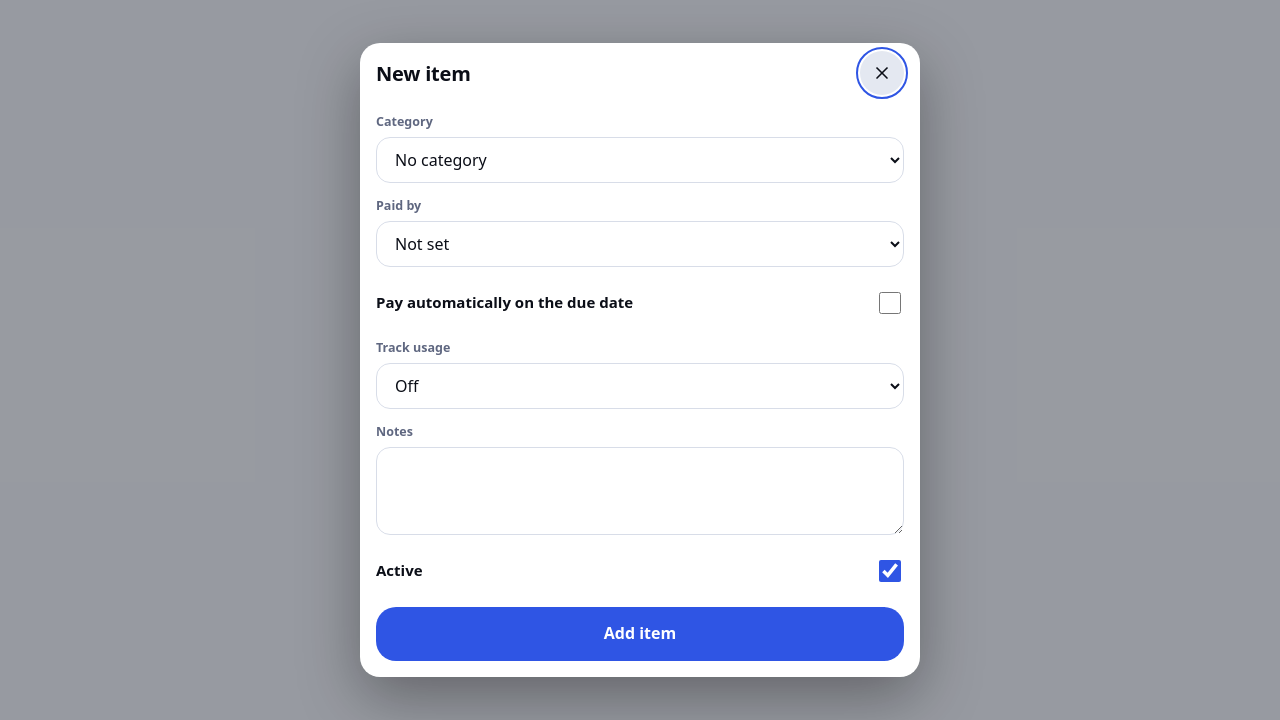
Test: nothing is sent while the form has a problem
The width and height of the screenshot is (1280, 720).
(page scrolled)
What coordinates should you click on to do the following:
click the button "Add item"
I would click on:
 (640, 634)
Its box is x1=376 y1=607 x2=904 y2=661.
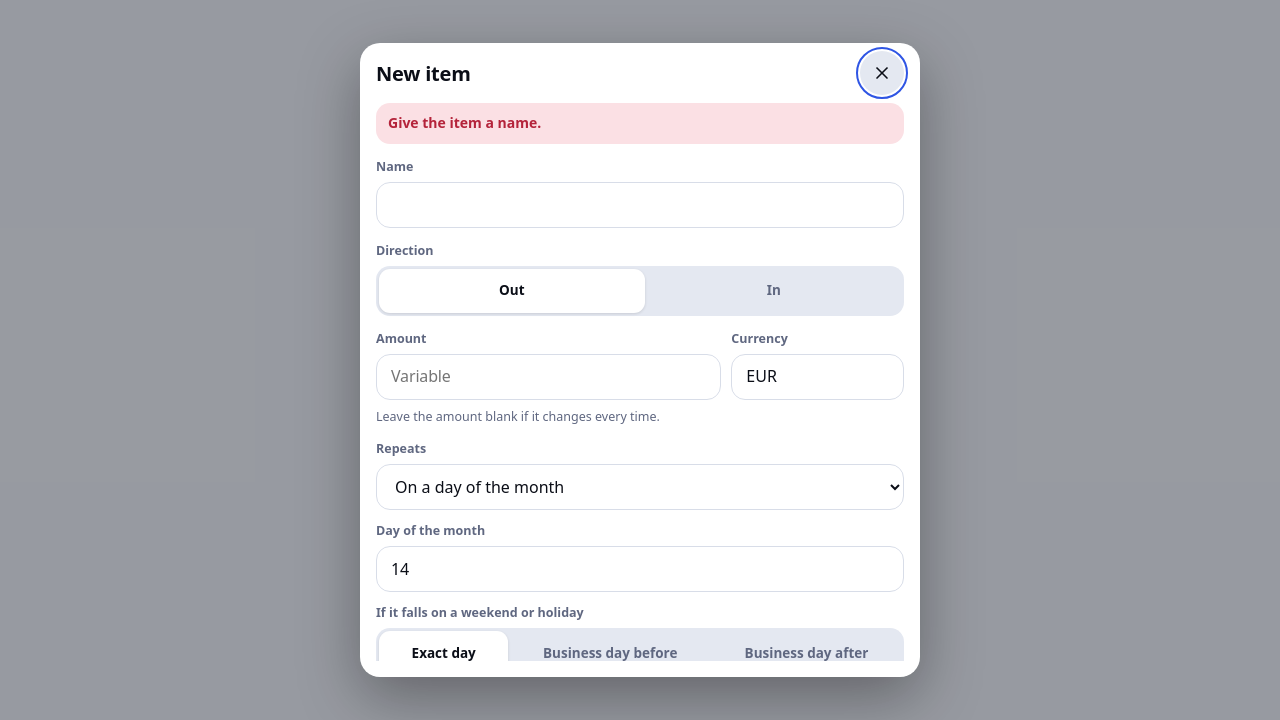
Result: the message reads "Give the item a name." at x1=388 y1=113 x2=541 y2=132
